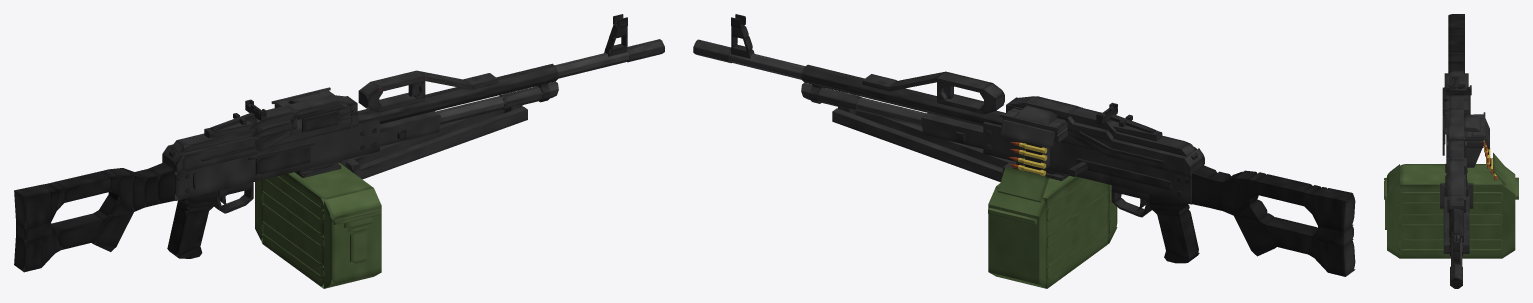
The model's file is pkp.obj.
The picture shows the model from 3 angles, left to right: view 1: azimuth 30°, elevation 25°; view 2: azimuth 150°, elevation 25°; view 3: azimuth 270°, elevation 25°; orthographic projection. The views are drawn at different scales.
Parts seen in each view (by area): view 1: ammoModel0, gunModel0, ammoModel1, gunModel110, gunModel23, gunModel85, gunModel57, gunModel1, gunModel112, gunModel36, gunModel61, gunModel24 (+23 smaller); view 2: ammoModel2, ammoModel0, gunModel0, gunModel112, gunModel23, gunModel85, gunModel57, gunModel110, gunModel1, gunModel36, gunModel61, ammoModel147 (+24 smaller); view 3: ammoModel0, ammoModel2, ammoModel1, gunModel130, gunModel6, gunModel23, gunModel110, gunModel54, gunModel112, gunModel128, gunModel12, ammoModel147 (+27 smaller).
Boxes of the visible parts, x1,y1,x2,y2 form: ammoModel0: (262, 162, 373, 288); gunModel0: (163, 120, 379, 200); ammoModel1: (324, 188, 381, 288); gunModel110: (352, 106, 527, 179); gunModel23: (351, 63, 558, 121); gunModel85: (167, 205, 208, 255); gunModel57: (14, 185, 50, 228); gunModel1: (168, 137, 257, 172); gunModel112: (339, 109, 504, 167); gunModel36: (380, 111, 440, 146); gunModel61: (51, 213, 102, 249); gunModel24: (358, 73, 558, 124); ammoModel2: (988, 186, 1047, 288); ammoModel0: (996, 169, 1109, 288); gunModel0: (983, 122, 1191, 204); gunModel112: (832, 108, 1002, 181); gunModel23: (802, 64, 1005, 122); gunModel85: (1157, 209, 1199, 260); gunModel57: (1318, 188, 1355, 232); gunModel110: (856, 111, 1018, 169); gunModel1: (1108, 139, 1196, 174); gunModel36: (921, 113, 983, 148); gunModel61: (1265, 217, 1317, 254); ammoModel147: (997, 166, 1048, 202); ammoModel0: (1400, 164, 1502, 258); ammoModel2: (1502, 167, 1515, 258); ammoModel1: (1387, 164, 1399, 258); gunModel130: (1449, 159, 1463, 195); gunModel6: (1449, 108, 1463, 138); gunModel23: (1449, 209, 1463, 237); gunModel110: (1443, 193, 1449, 253); gunModel54: (1448, 31, 1464, 51); gunModel112: (1463, 193, 1469, 253); gunModel128: (1449, 140, 1463, 161); gunModel12: (1464, 115, 1480, 131); ammoModel147: (1493, 153, 1505, 185).
Size of the model in its own units: 33.3 by 8.25 by 7.25.
